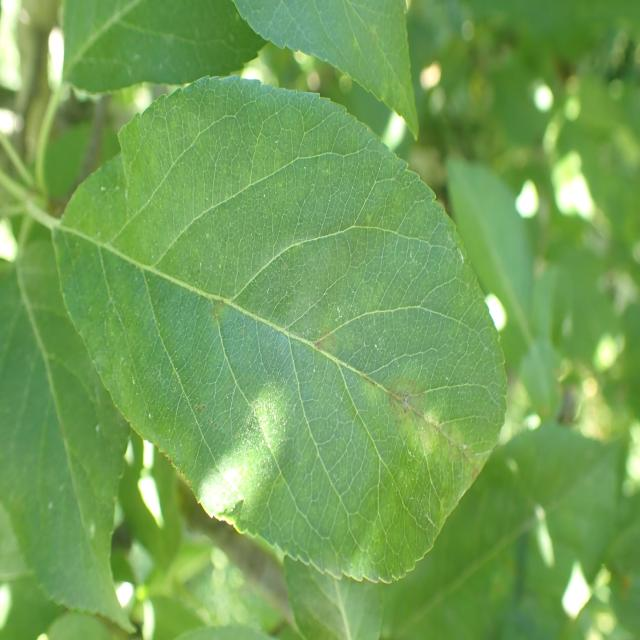scab: (93, 132, 484, 537), (483, 536, 486, 537)
